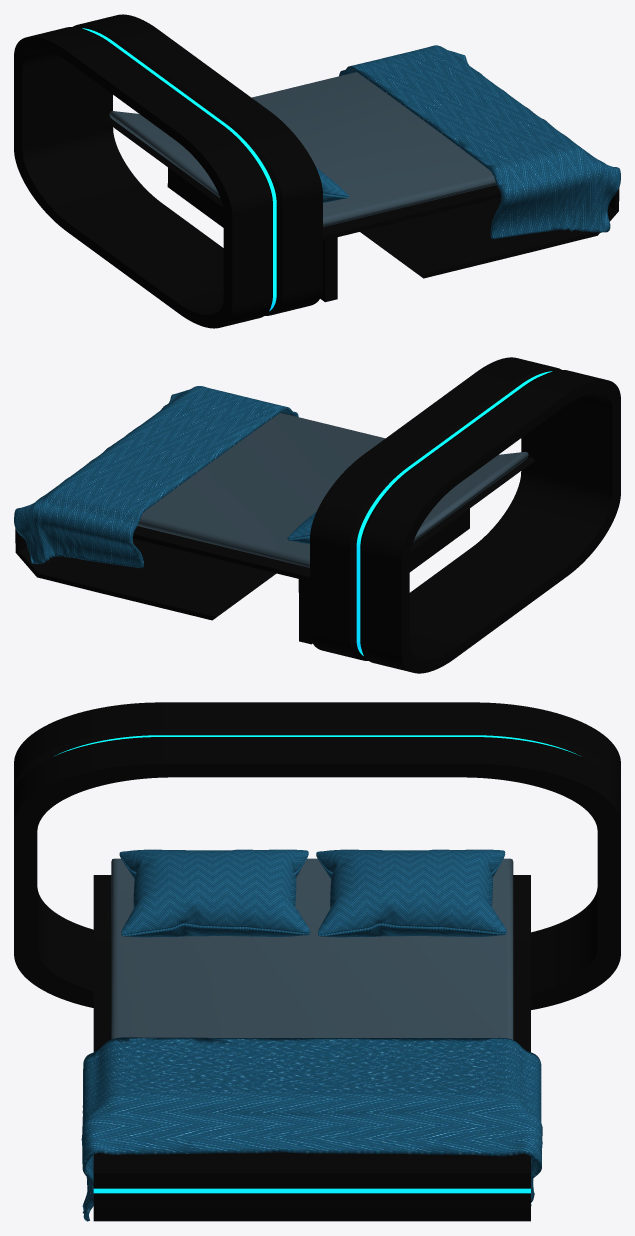
Rendered from bed.glb.
3 renders of one model, top to bottom at view 1: azimuth 30°, elevation 25°; view 2: azimuth 150°, elevation 25°; view 3: azimuth 270°, elevation 25°, orthographic. The views are drawn at different scales.
Visible parts, largest first — view 1: Cube, Plane.001, Plane.002, Plane.005, Plane.003; view 2: Cube, Plane.002, Plane.001, Plane.005; view 3: Cube, Plane.001, Plane.002, Plane.005, Plane.003, Plane.004.
Boxes of the visible parts, bbox=[...] form: Cube: bbox=[14, 14, 322, 328]; Plane.001: bbox=[339, 45, 620, 239]; Plane.002: bbox=[109, 72, 496, 226]; Plane.005: bbox=[103, 116, 619, 302]; Plane.003: bbox=[316, 167, 348, 202]; Cube: bbox=[310, 357, 620, 673]; Plane.002: bbox=[137, 413, 528, 567]; Plane.001: bbox=[14, 386, 298, 568]; Plane.005: bbox=[15, 456, 534, 644]; Cube: bbox=[14, 702, 620, 1009]; Plane.001: bbox=[81, 1037, 542, 1221]; Plane.002: bbox=[111, 858, 513, 1039]; Plane.005: bbox=[93, 875, 530, 1221]; Plane.003: bbox=[119, 849, 310, 937]; Plane.004: bbox=[316, 849, 506, 937].
Bounding box in the file's own units: 2.1 × 0.8729 × 1.91.
4 materials, 1 textured.
